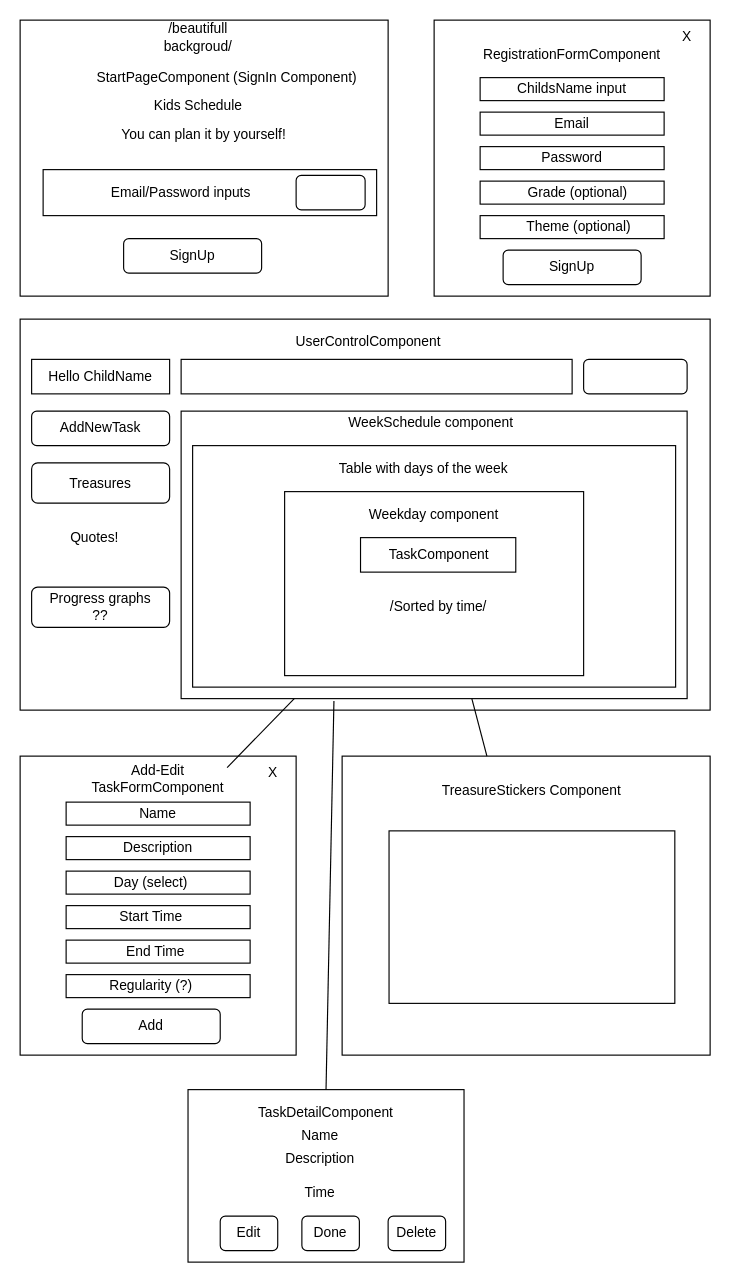
Some shapes in this 730 by 1282 pixel diagram are drawn without their labels. The shapes that lost their labels are listed below. From the top down, each one's centre as x and y in pixels, then its label:
At (x=330, y=192): "SignIn".
At (x=376, y=376): "Today's day name".
At (x=634, y=376): "SighOutButton".
At (x=531, y=916): "Table with stickers".
